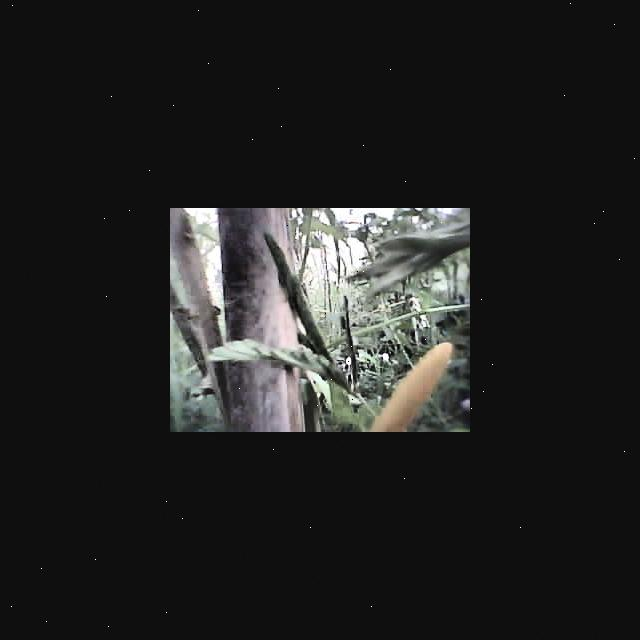Cabai: (365, 343, 449, 432)
